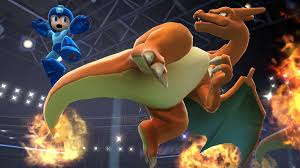charizard: (41, 5, 266, 166)
